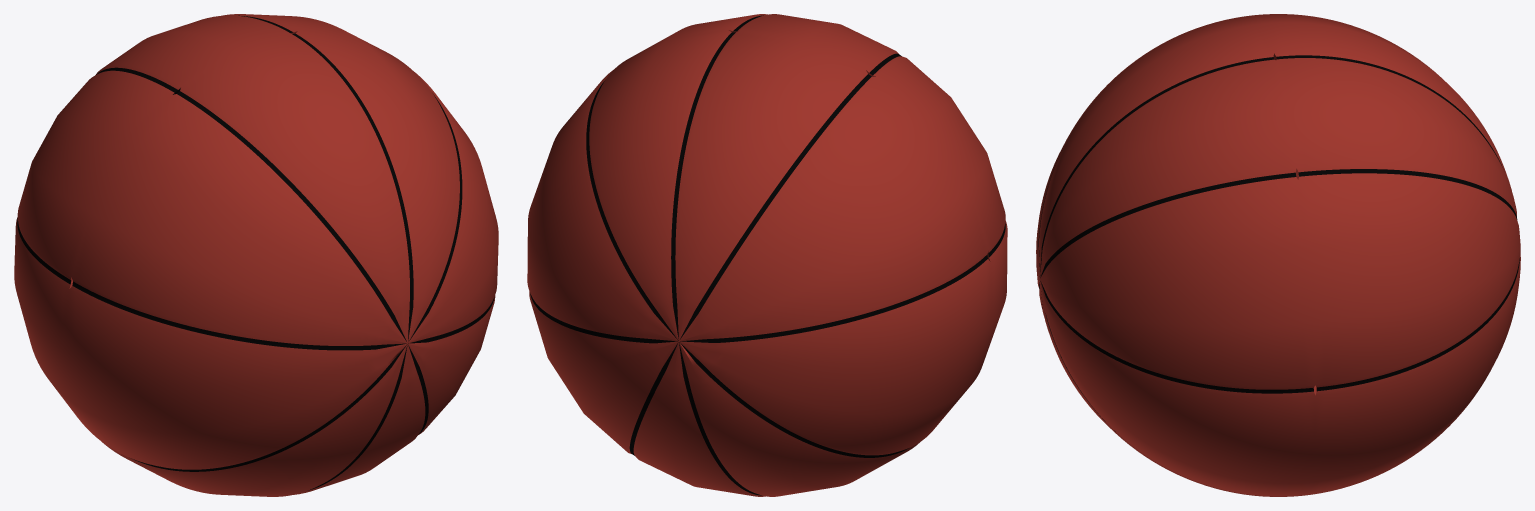
Rendered from kırılmayanbasket.fbx.
The picture shows the model from 3 angles, left to right: view 1: azimuth 30°, elevation 25°; view 2: azimuth 150°, elevation 25°; view 3: azimuth 270°, elevation 25°; orthographic projection.
Visible parts, largest first — view 1: Sphere; view 2: Sphere; view 3: Sphere.
Part boxes in pixels (box(x1,y1,x2,y2)): Sphere: box(14, 14, 498, 496); Sphere: box(527, 14, 1007, 496); Sphere: box(1036, 14, 1520, 496).
Size of the model in its own units: 39.59 by 39.55 by 39.98.
